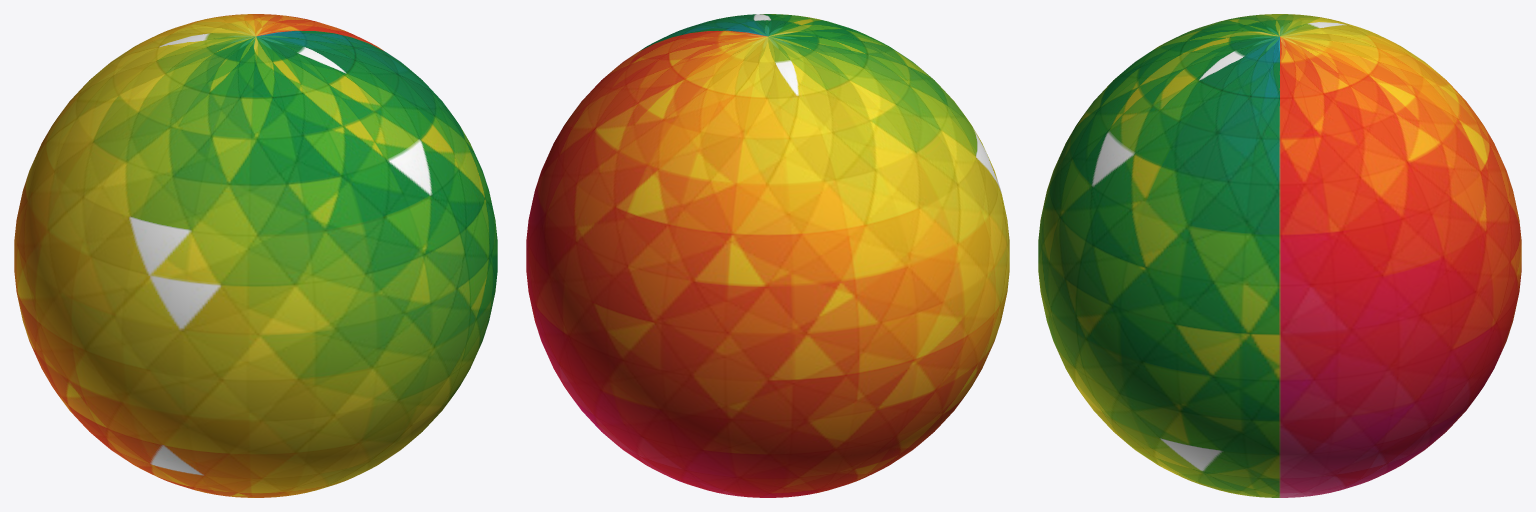
Rendered from perfect_sphere.obj.
3 renders of one model, left to right at view 1: azimuth 30°, elevation 25°; view 2: azimuth 150°, elevation 25°; view 3: azimuth 270°, elevation 25°, orthographic.
Visible parts, largest first — view 1: Sphere.1; view 2: Sphere.1; view 3: Sphere.1.
Boxes of the visible parts, x1=… form: Sphere.1: x1=14, y1=14, x2=497, y2=497; Sphere.1: x1=526, y1=14, x2=1009, y2=497; Sphere.1: x1=1038, y1=14, x2=1521, y2=497.
Bounding box in the file's own units: 3458 × 3462 × 3454.
